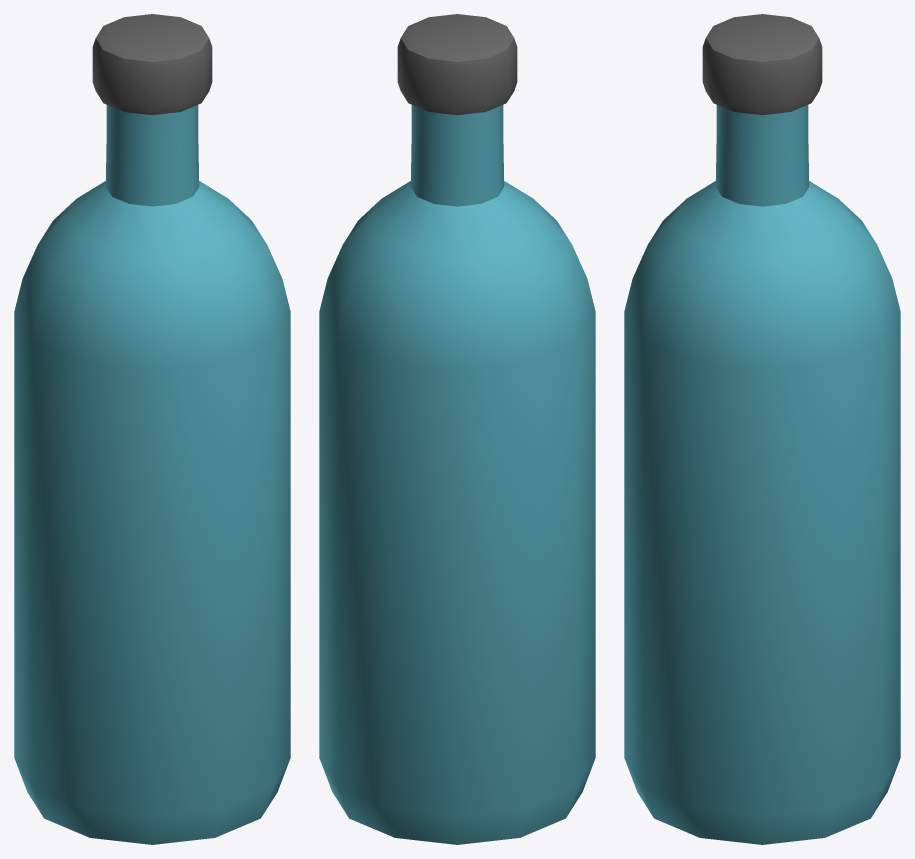
File: SM_bottle_02.fbx
3 views of the same model, side by side, from view 1: azimuth 30°, elevation 25°; view 2: azimuth 150°, elevation 25°; view 3: azimuth 270°, elevation 25° (orthographic).
Parts seen in each view (by area): view 1: Cylinder025; view 2: Cylinder025; view 3: Cylinder025.
Boxes of the visible parts, <box> form: Cylinder025: <box>14,14,290,844</box>; Cylinder025: <box>319,14,595,844</box>; Cylinder025: <box>624,14,900,844</box>.
Size of the model in its own units: 7.74 by 23.73 by 7.74.
